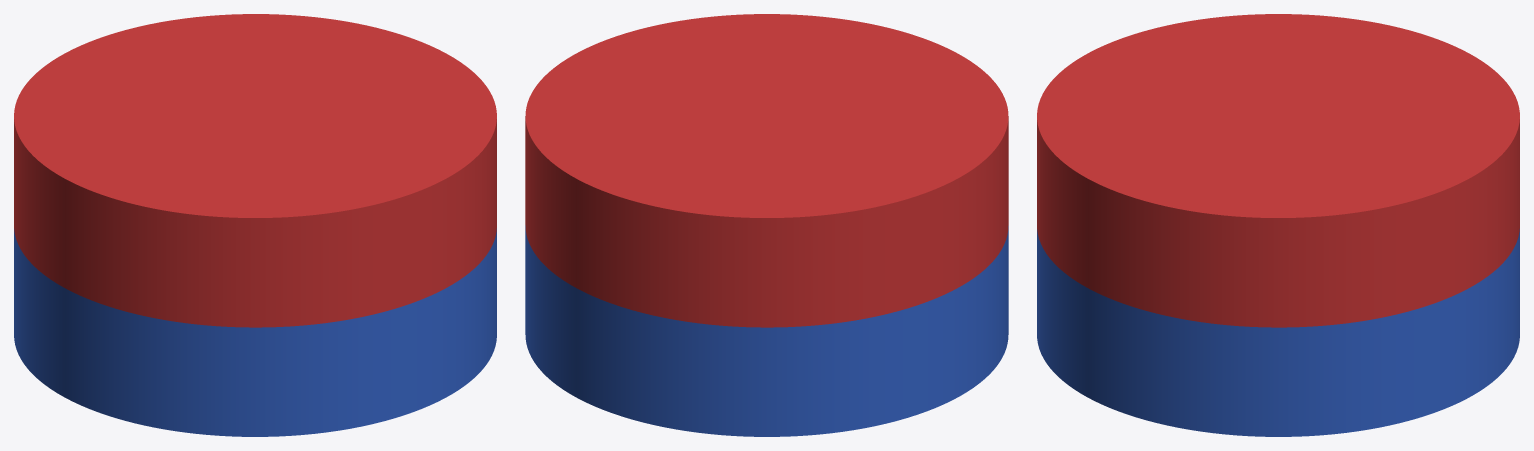
File: magnet_d2x1_axial.glb
The picture shows the model from 3 angles, left to right: view 1: azimuth 30°, elevation 25°; view 2: azimuth 150°, elevation 25°; view 3: azimuth 270°, elevation 25°; orthographic projection.
Visible parts, largest first — view 1: N_half, S_half; view 2: N_half, S_half; view 3: N_half, S_half.
Part boxes in pixels (x1,y1,x2,y2): N_half: [14, 14, 496, 327]; S_half: [14, 228, 496, 436]; N_half: [525, 14, 1008, 327]; S_half: [525, 225, 1008, 436]; N_half: [1037, 14, 1519, 327]; S_half: [1037, 229, 1519, 436].
Bounding box in the file's own units: 0.002 × 0.001 × 0.002.
